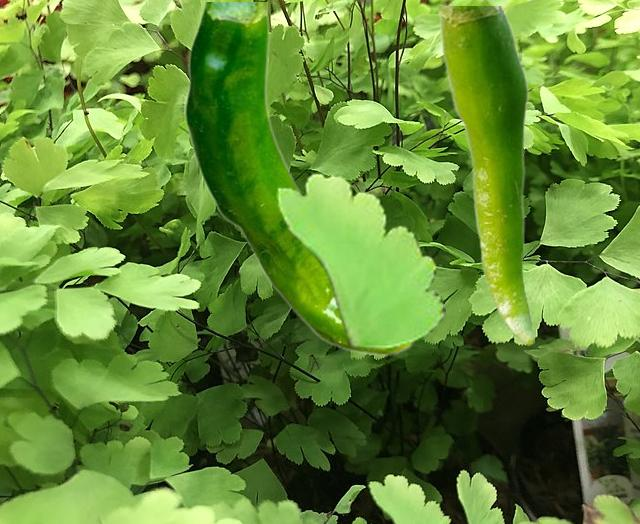green_chili: (184, 2, 413, 356), (439, 6, 533, 344)
